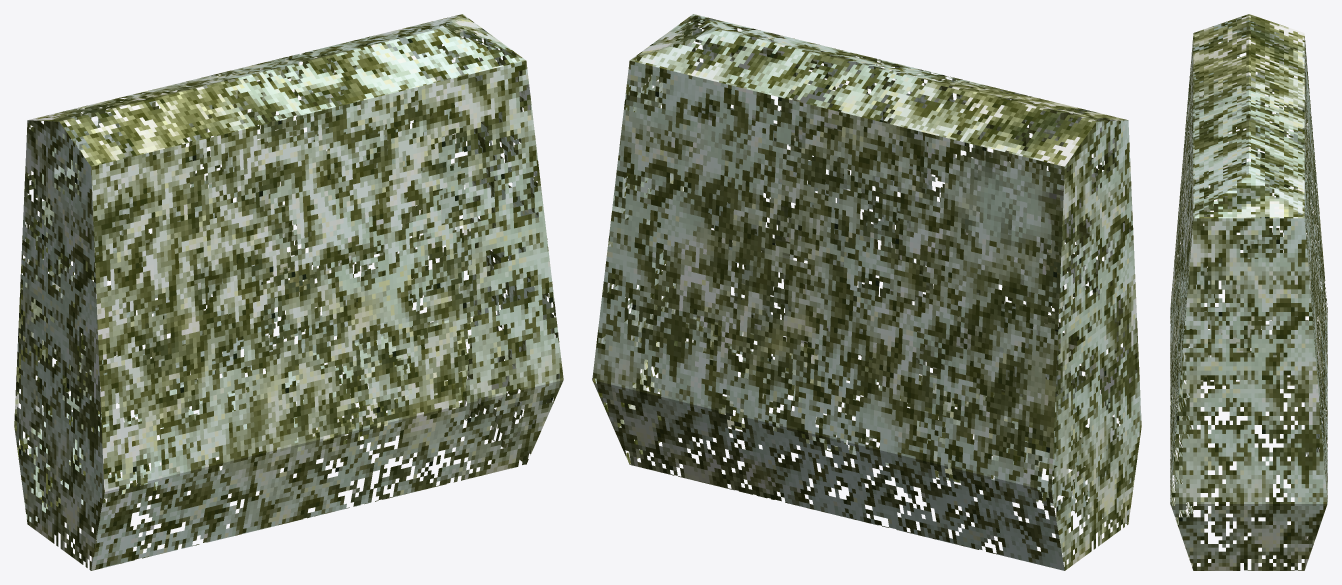
The model's file is bush_tall_open_right_winter.glb.
3 renders of one model, left to right at view 1: azimuth 30°, elevation 25°; view 2: azimuth 150°, elevation 25°; view 3: azimuth 270°, elevation 25°, orthographic. The views are drawn at different scales.
Visible parts, largest first — view 1: bush_tall_open_right_winter; view 2: bush_tall_open_right_winter; view 3: bush_tall_open_right_winter.
Boxes of the visible parts, box(x1,y1,x2,y2) form: bush_tall_open_right_winter: box(14, 14, 563, 570); bush_tall_open_right_winter: box(592, 14, 1141, 570); bush_tall_open_right_winter: box(1170, 14, 1327, 570).
Bounding box in the file's own units: 2.12 × 1.88 × 0.7191.
Materials: 1 (1 with a texture image).
